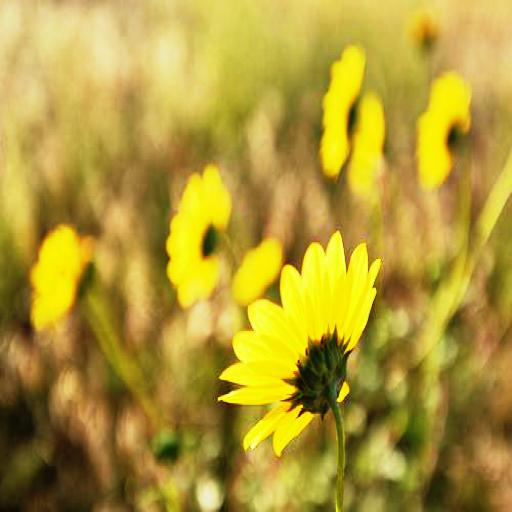sunflower: (221, 233, 381, 451), (165, 166, 225, 306)
